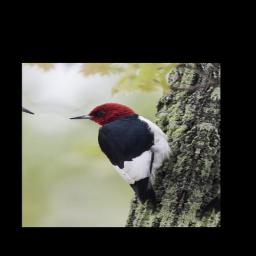Woodpecker: (37, 95, 198, 214)
